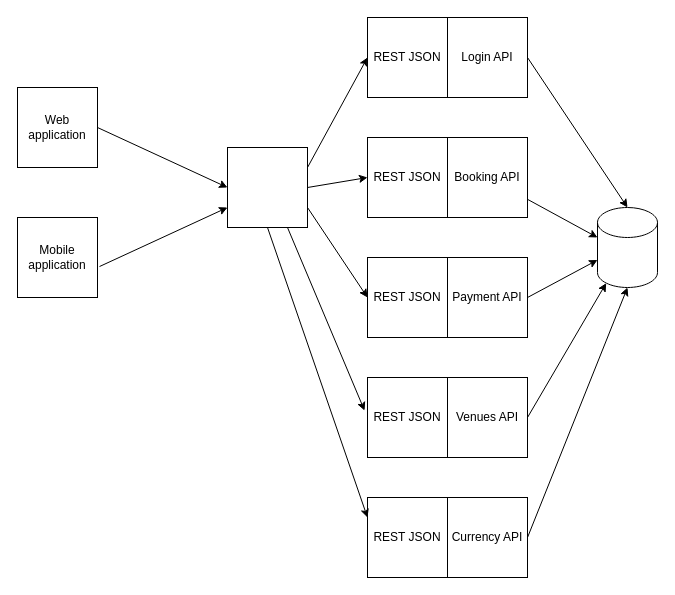
Some shapes in this 675 by 595 pixel diagram are drawn without their labels. Here are the shapes that lost their labels. From the top down, the centre of each, then its label:
At pixel 267 187: "API gateway".
At pixel 627 247: "Database".
